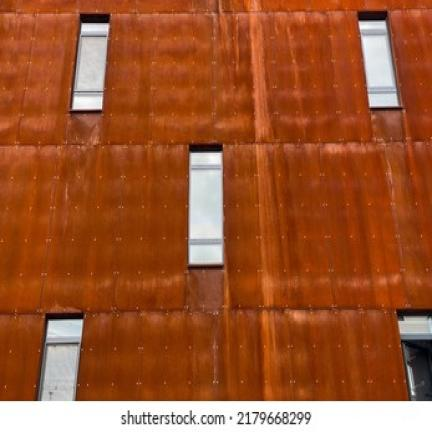karat: (1, 1, 431, 402), (1, 117, 184, 308)
